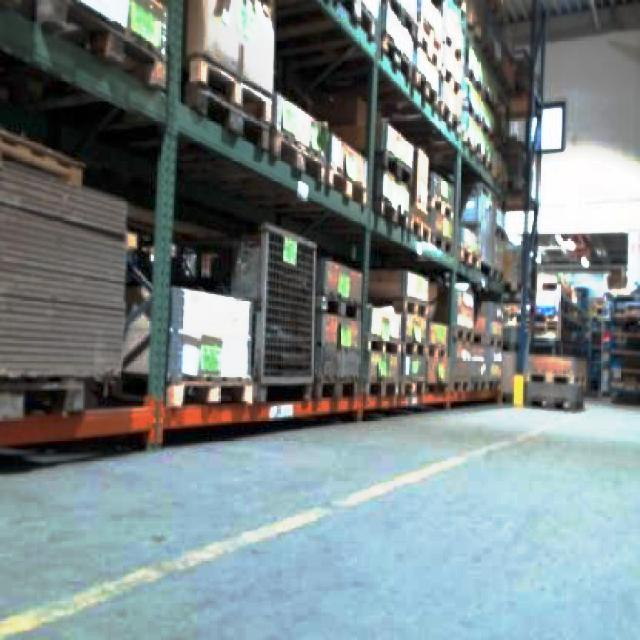ground: (0, 391, 638, 638)
pallet: (0, 377, 503, 462), (0, 151, 129, 388), (254, 222, 317, 397), (525, 351, 588, 409), (606, 306, 638, 406)
